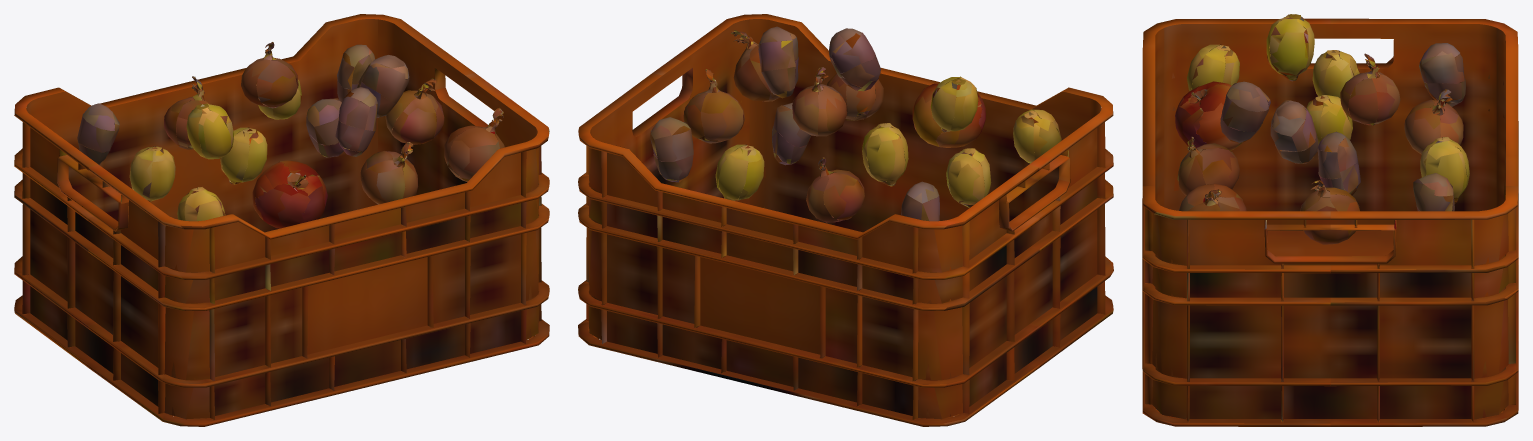
File: produce_crate.glb
The picture shows the model from 3 angles, left to right: view 1: azimuth 30°, elevation 25°; view 2: azimuth 150°, elevation 25°; view 3: azimuth 270°, elevation 25°; orthographic projection. The views are drawn at different scales.
Parts seen in each view (by area): view 1: produce_crate; view 2: produce_crate; view 3: produce_crate.
Boxes of the visible parts, box(x1,y1,x2,y2) form: produce_crate: box(14, 14, 549, 426); produce_crate: box(578, 14, 1113, 426); produce_crate: box(1142, 14, 1518, 426).
Size of the model in its own units: 0.5 by 0.3301 by 0.4009.
Materials: 1 (1 with a texture image).
